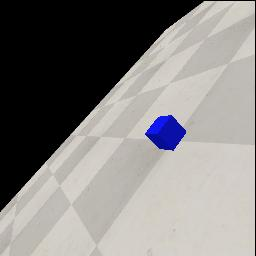box: (145, 115, 186, 151)
